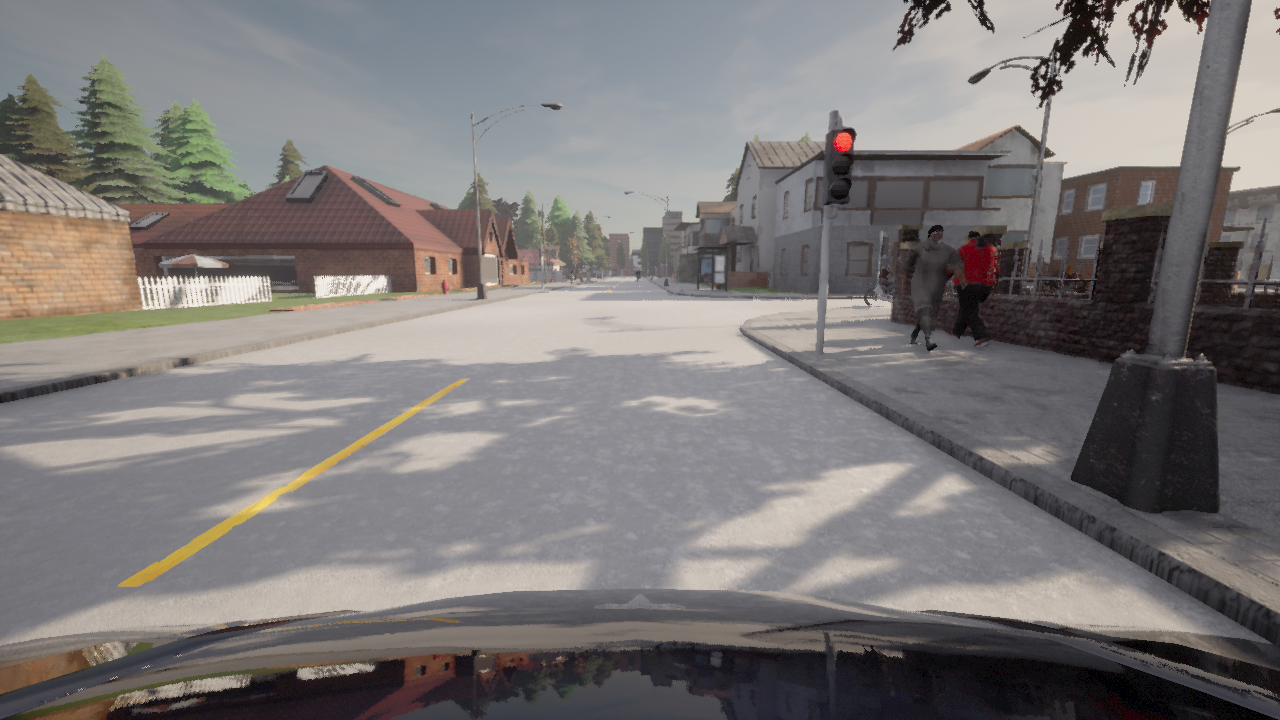cyclist: (0, 588, 1279, 719), (1026, 273, 1090, 291), (865, 285, 892, 306), (572, 275, 575, 289), (1271, 287, 1279, 291)
pedestrian: (900, 224, 966, 351), (946, 229, 999, 347)
